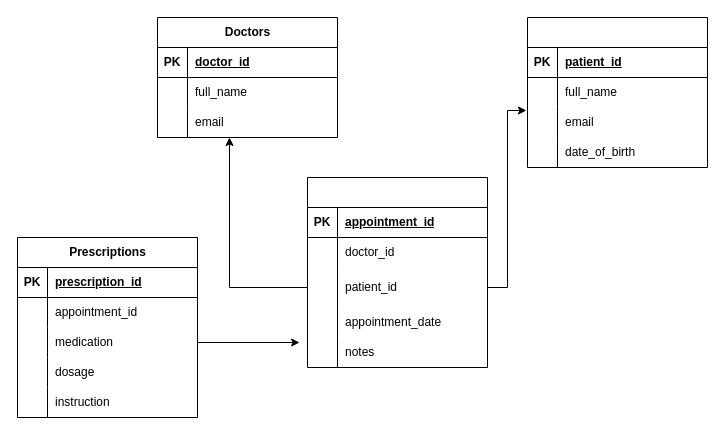
Some shapes in this 725 by 435 pixel diagram are drawn without their labels. Each missing label, with the box of its shape:
Appointments: (306, 176, 488, 368)
Patients: (526, 16, 708, 168)
